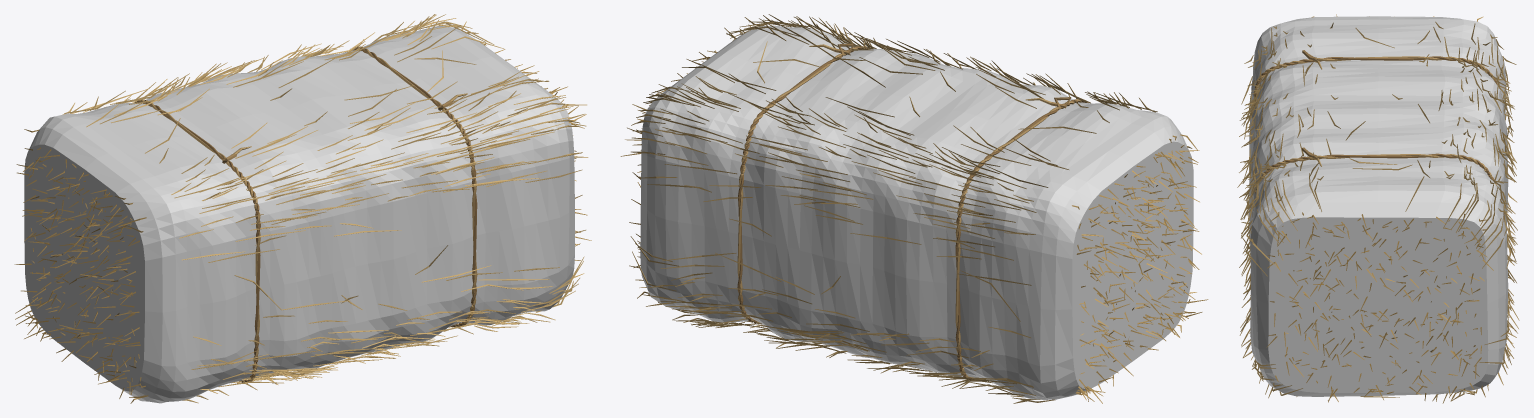
Rendered from SM_BoundHay.glb.
3 views of the same model, side by side, from view 1: azimuth 30°, elevation 25°; view 2: azimuth 150°, elevation 25°; view 3: azimuth 270°, elevation 25° (orthographic). The views are drawn at different scales.
Visible parts, largest first — view 1: SM_BoundHay; view 2: SM_BoundHay; view 3: SM_BoundHay.
Boxes of the visible parts, x1,y1,x2,y2 form: SM_BoundHay: (14, 14, 591, 403); SM_BoundHay: (620, 14, 1208, 403); SM_BoundHay: (1237, 14, 1519, 403).
Bounding box in the file's own units: 1.06 × 0.5093 × 0.5976.
